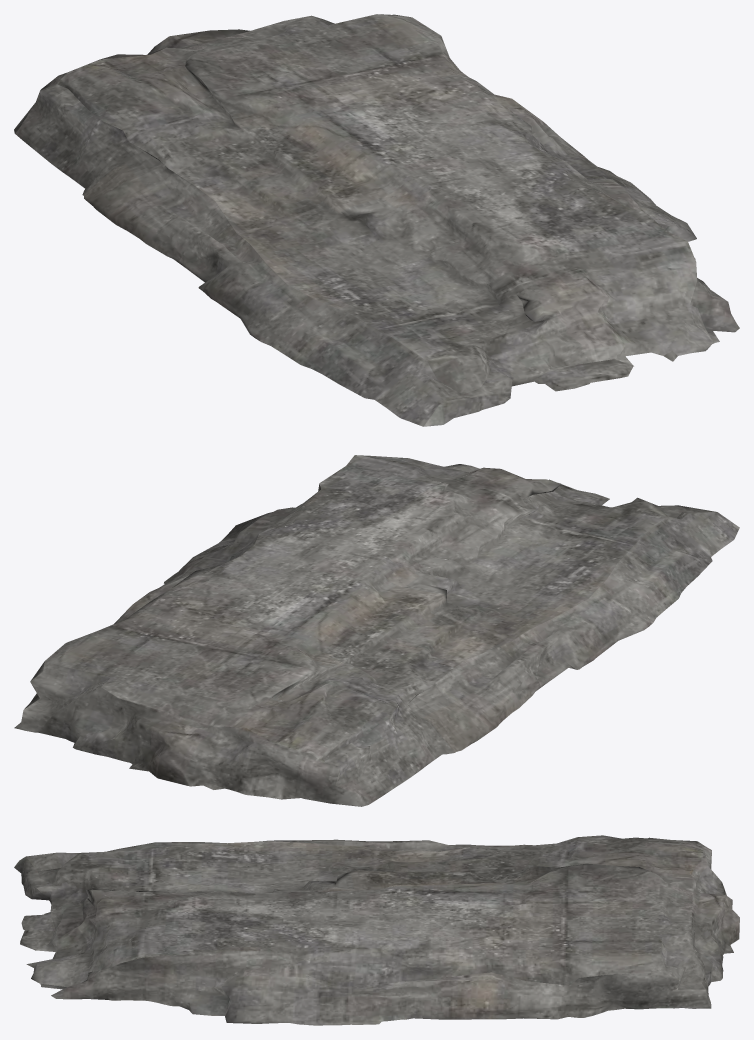
The model's file is pedra2.glb.
The picture shows the model from 3 angles, top to bottom: view 1: azimuth 30°, elevation 25°; view 2: azimuth 150°, elevation 25°; view 3: azimuth 270°, elevation 25°; orthographic projection. The views are drawn at different scales.
Parts seen in each view (by area): view 1: models\props\rock_floor_model_2.vmdl_c.rock_floor_model_2; view 2: models\props\rock_floor_model_2.vmdl_c.rock_floor_model_2; view 3: models\props\rock_floor_model_2.vmdl_c.rock_floor_model_2.
Part boxes in pixels (x1=…): models\props\rock_floor_model_2.vmdl_c.rock_floor_model_2: x1=14, y1=14, x2=739, y2=426; models\props\rock_floor_model_2.vmdl_c.rock_floor_model_2: x1=14, y1=455, x2=739, y2=806; models\props\rock_floor_model_2.vmdl_c.rock_floor_model_2: x1=14, y1=835, x2=739, y2=1025.
Size of the model in its own units: 2.74 by 0.3443 by 4.68.
1 material, 1 textured.
